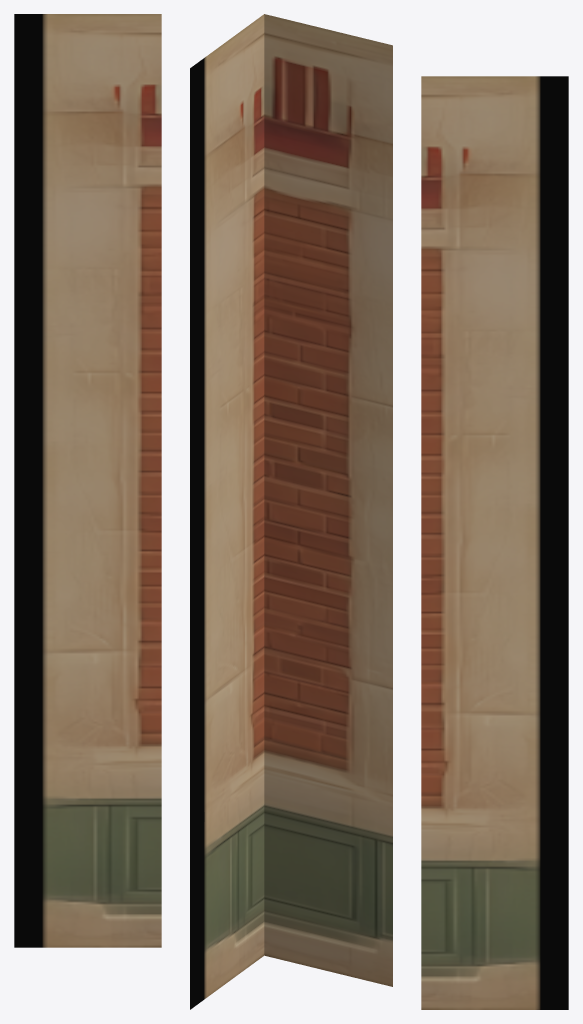
The model's file is BRK_Corner_U.fbx.
The picture shows the model from 3 angles, left to right: view 1: azimuth 90°, elevation 25°; view 2: azimuth 150°, elevation 25°; view 3: azimuth 270°, elevation 25°; orthographic projection.
Visible parts, largest first — view 1: BRK_Corner_U; view 2: BRK_Corner_U; view 3: BRK_Corner_U.
Part boxes in pixels (bbox=[...]): BRK_Corner_U: bbox=[14, 14, 161, 947]; BRK_Corner_U: bbox=[190, 14, 392, 1009]; BRK_Corner_U: bbox=[421, 76, 568, 1009].
Bounding box in the file's own units: 0.5 × 0.5 × 3.5.
1 material, 1 textured.
